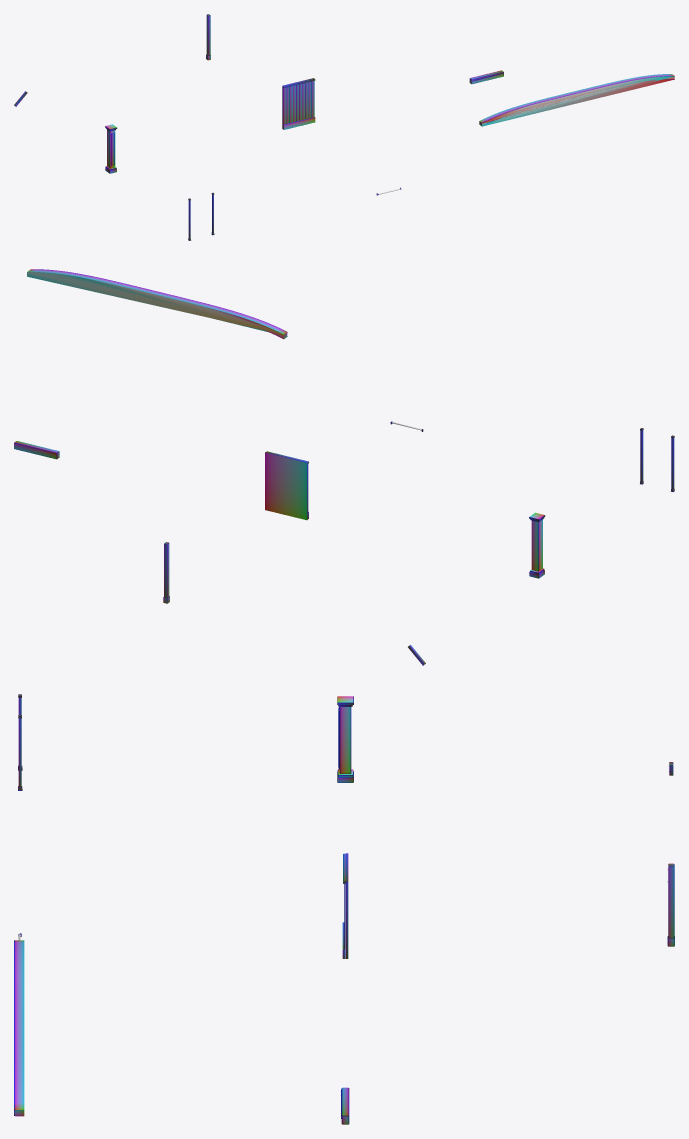
Rendered from StageShift_TheatreShell.fbx.
3 renders of one model, top to bottom at view 1: azimuth 30°, elevation 25°; view 2: azimuth 150°, elevation 25°; view 3: azimuth 270°, elevation 25°, orthographic. The views are drawn at different scales.
Parts seen in each view (by area): view 1: Proscenium_Curved_Header, Theatre_Wall_4m, Proscenium_Pier; view 2: Proscenium_Curved_Header, Theatre_Wall_4m, Proscenium_Pier; view 3: Proscenium_Curved_Header, Proscenium_Pier, Theatre_Wall_4m.
Boxes of the visible parts, box(x1,y1,x2,y2) form: Proscenium_Curved_Header: box(479, 74, 674, 126); Theatre_Wall_4m: box(282, 78, 315, 129); Proscenium_Pier: box(105, 124, 117, 173); Proscenium_Curved_Header: box(27, 269, 287, 339); Theatre_Wall_4m: box(265, 451, 308, 520); Proscenium_Pier: box(529, 512, 545, 578); Proscenium_Curved_Header: box(14, 940, 24, 1116); Proscenium_Pier: box(337, 696, 353, 782); Theatre_Wall_4m: box(342, 853, 348, 958).
Bounding box in the file's own units: 6194 × 672 × 4057.
